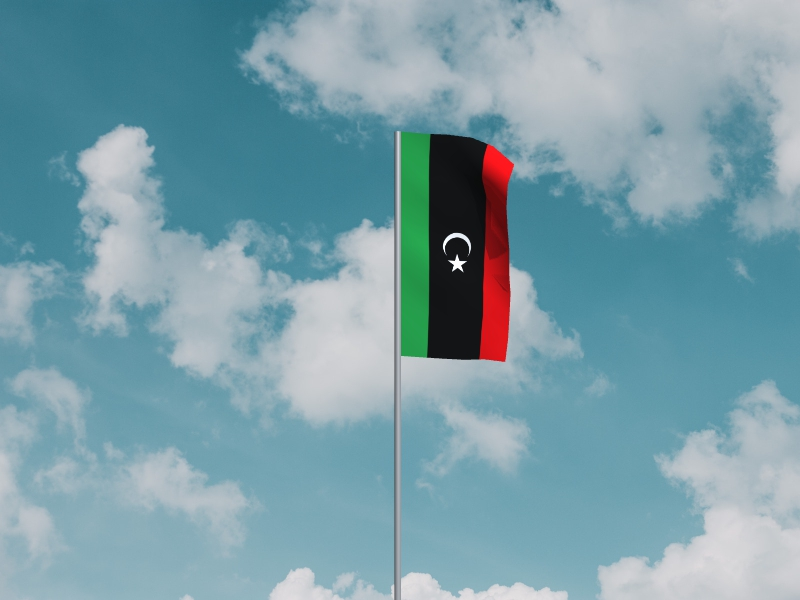ly: (402, 132, 516, 364)
